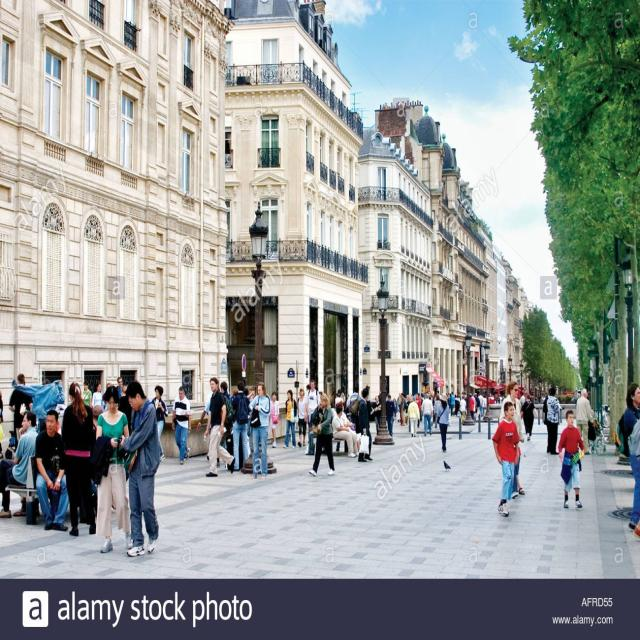body: (116, 379, 164, 560), (88, 385, 135, 554), (61, 382, 97, 538), (34, 408, 70, 531), (0, 409, 39, 518), (201, 376, 237, 479), (491, 399, 522, 518), (498, 379, 526, 499), (404, 390, 487, 428), (11, 378, 66, 434), (557, 408, 586, 511), (247, 380, 271, 480), (308, 391, 335, 477), (612, 380, 640, 460), (7, 373, 34, 453), (230, 380, 251, 472), (197, 386, 220, 463), (171, 385, 192, 466), (219, 381, 235, 472), (151, 385, 169, 464), (332, 406, 359, 458), (336, 400, 362, 453), (575, 388, 595, 456), (355, 388, 373, 463), (512, 430, 528, 496), (546, 386, 561, 456), (315, 394, 332, 455), (546, 386, 560, 456), (282, 389, 298, 449), (116, 384, 133, 437), (295, 386, 309, 449), (520, 392, 538, 441), (436, 391, 450, 452), (346, 385, 366, 424), (304, 379, 321, 423), (589, 410, 608, 448), (269, 391, 281, 448), (182, 388, 192, 456), (406, 395, 421, 438), (420, 392, 434, 437), (385, 394, 397, 437), (371, 395, 383, 436), (228, 387, 256, 404), (0, 385, 5, 462), (405, 393, 414, 432), (337, 388, 347, 422), (91, 381, 103, 409), (247, 418, 255, 459), (399, 392, 408, 426), (81, 381, 92, 408), (518, 390, 528, 417), (115, 380, 128, 400), (631, 512, 640, 540), (488, 392, 508, 404), (393, 397, 399, 424), (345, 393, 351, 419), (397, 392, 402, 423), (116, 377, 123, 399), (415, 394, 422, 413), (434, 378, 438, 395), (103, 382, 112, 389), (304, 383, 311, 392), (334, 392, 341, 399), (434, 394, 440, 402), (317, 390, 323, 397)
